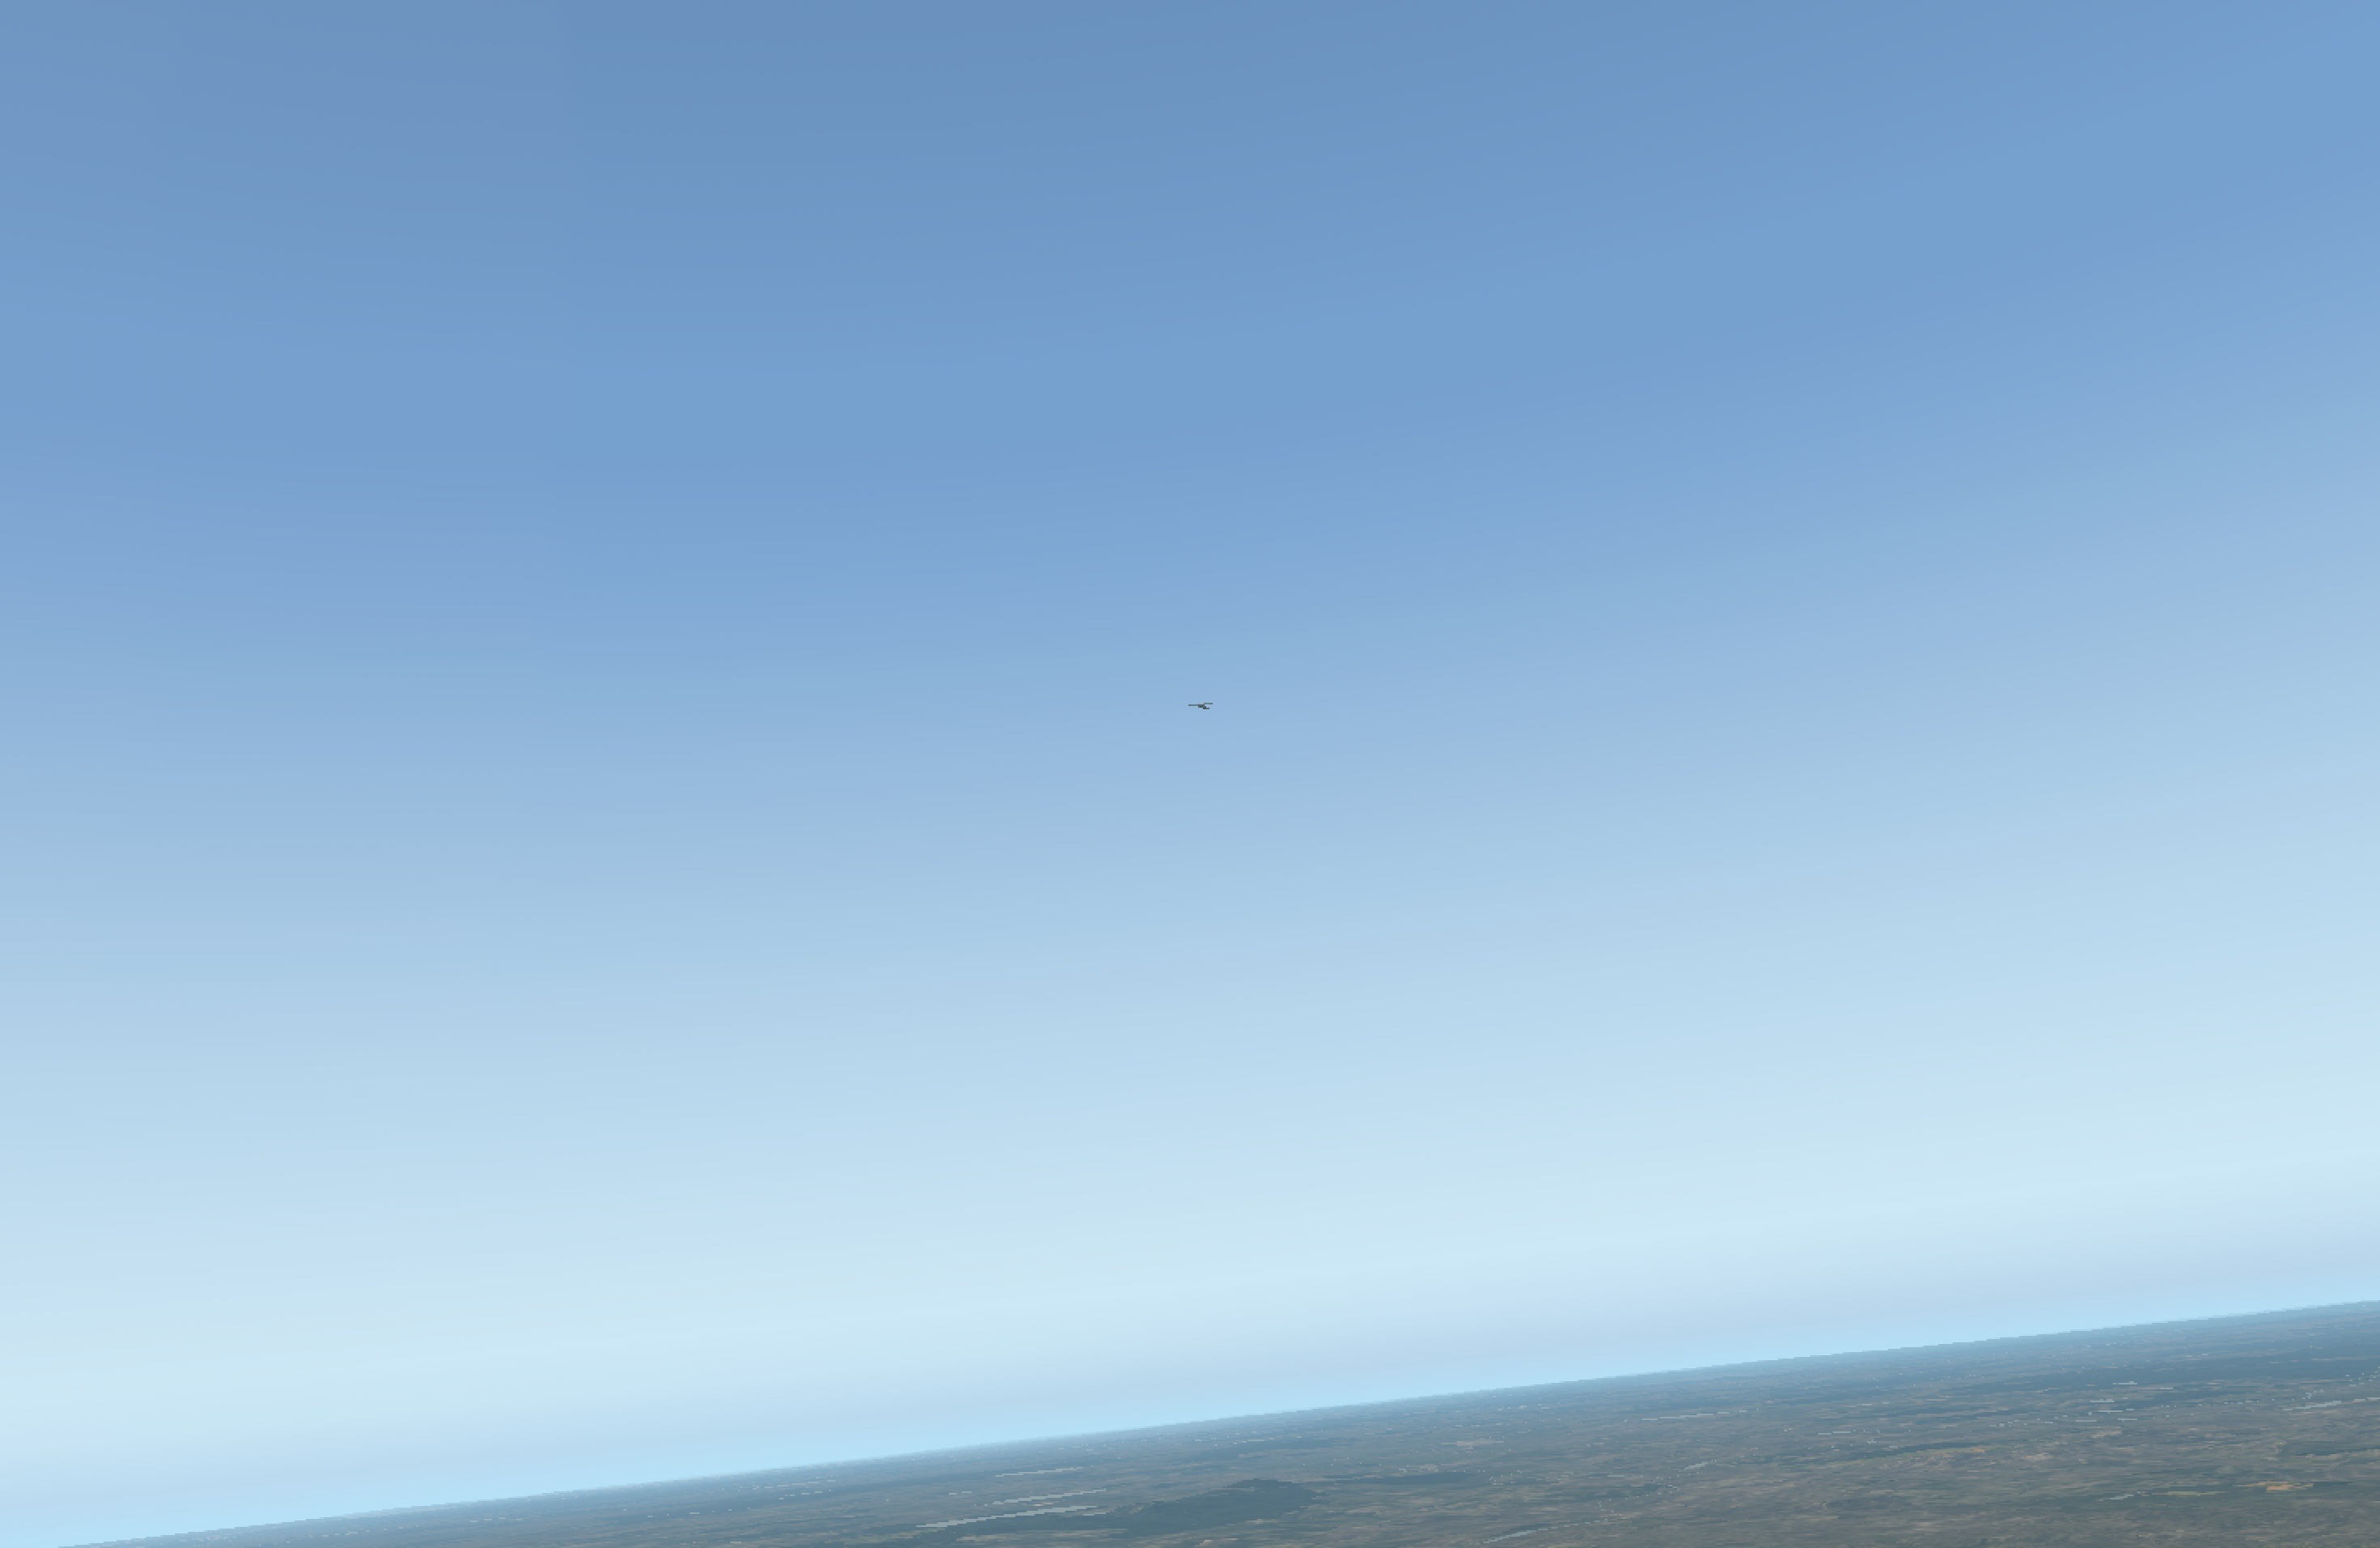aircraft: (1192, 701, 1211, 710)
